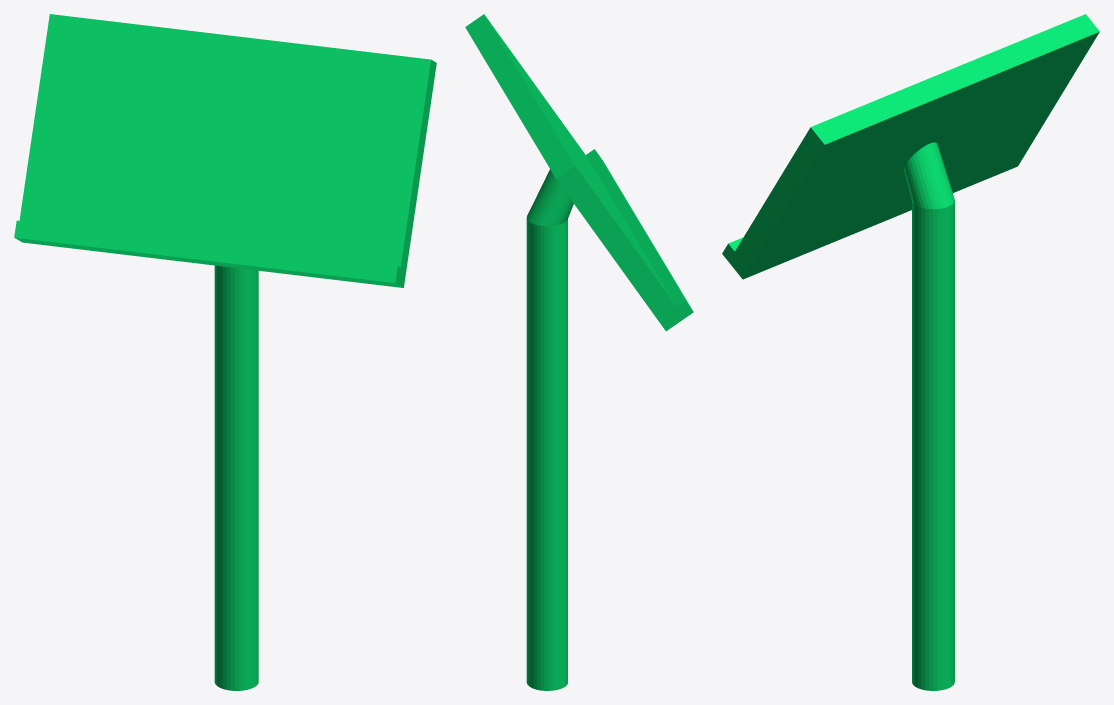
The model's file is pupitre 1.fbx.
The picture shows the model from 3 angles, left to right: view 1: azimuth 30°, elevation 25°; view 2: azimuth 150°, elevation 25°; view 3: azimuth 270°, elevation 25°; orthographic projection. The views are drawn at different scales.
Visible parts, largest first — view 1: Pupitre; view 2: Pupitre; view 3: Pupitre.
Part boxes in pixels (<box>): Pupitre: <box>14,14,436,690</box>; Pupitre: <box>465,14,693,690</box>; Pupitre: <box>722,14,1099,690</box>.
Bounding box in the file's own units: 55.62 × 101 × 56.31.
